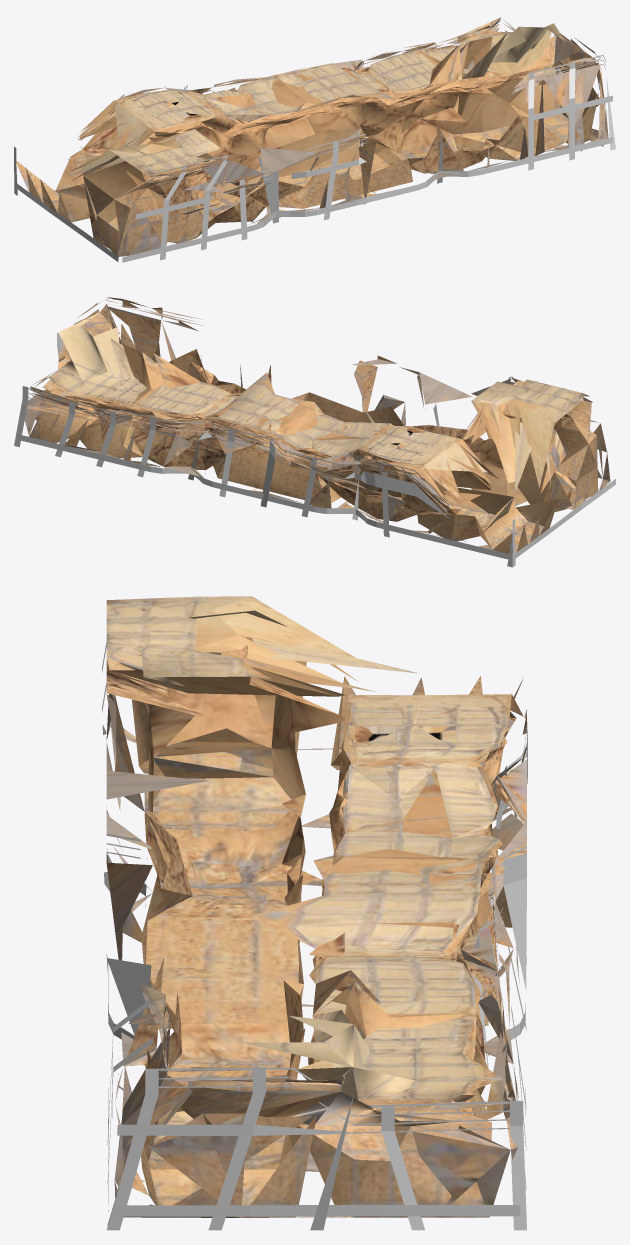
File: hesco_wreck.glb
3 views of the same model, one above another, from view 1: azimuth 30°, elevation 25°; view 2: azimuth 150°, elevation 25°; view 3: azimuth 270°, elevation 25° (orthographic). The views are drawn at different scales.
Parts seen in each view (by area): view 1: wall.001, roof.001, metal.001; view 2: wall.001, roof.001, metal.001; view 3: wall.001, roof.001, metal.001.
Part boxes in pixels (bbox=[...]): wall.001: bbox=[16, 17, 608, 256]; roof.001: bbox=[66, 23, 599, 176]; metal.001: bbox=[14, 34, 615, 262]; wall.001: bbox=[24, 297, 610, 553]; roof.001: bbox=[49, 300, 585, 502]; metal.001: bbox=[14, 293, 615, 567]; wall.001: bbox=[106, 596, 526, 1217]; roof.001: bbox=[106, 596, 526, 1115]; metal.001: bbox=[102, 642, 527, 1230].
Bounding box in the file's own units: 3.04 × 0.5192 × 1.13.
1 material, 1 textured.
